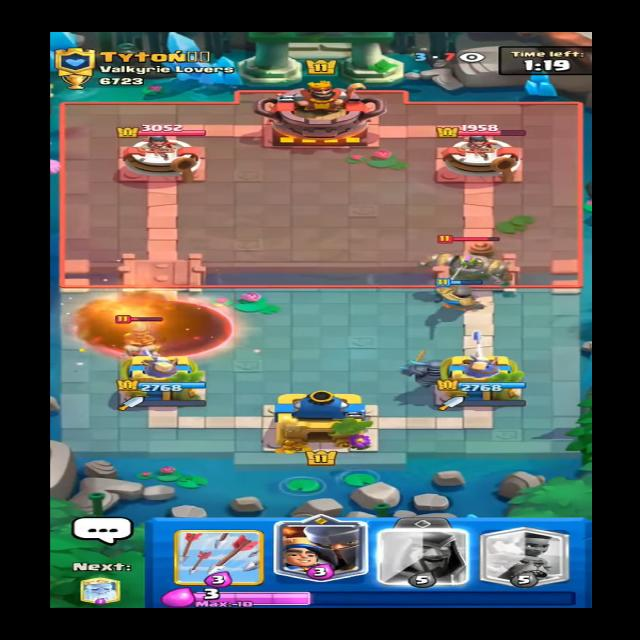Goblinmachine: (418, 232, 506, 290)
Ramrider: (109, 314, 164, 366)
